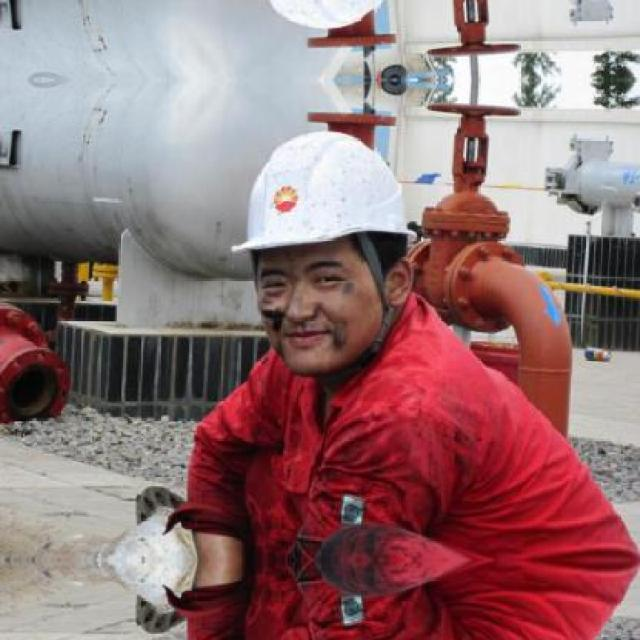helmet: (222, 121, 430, 387)
